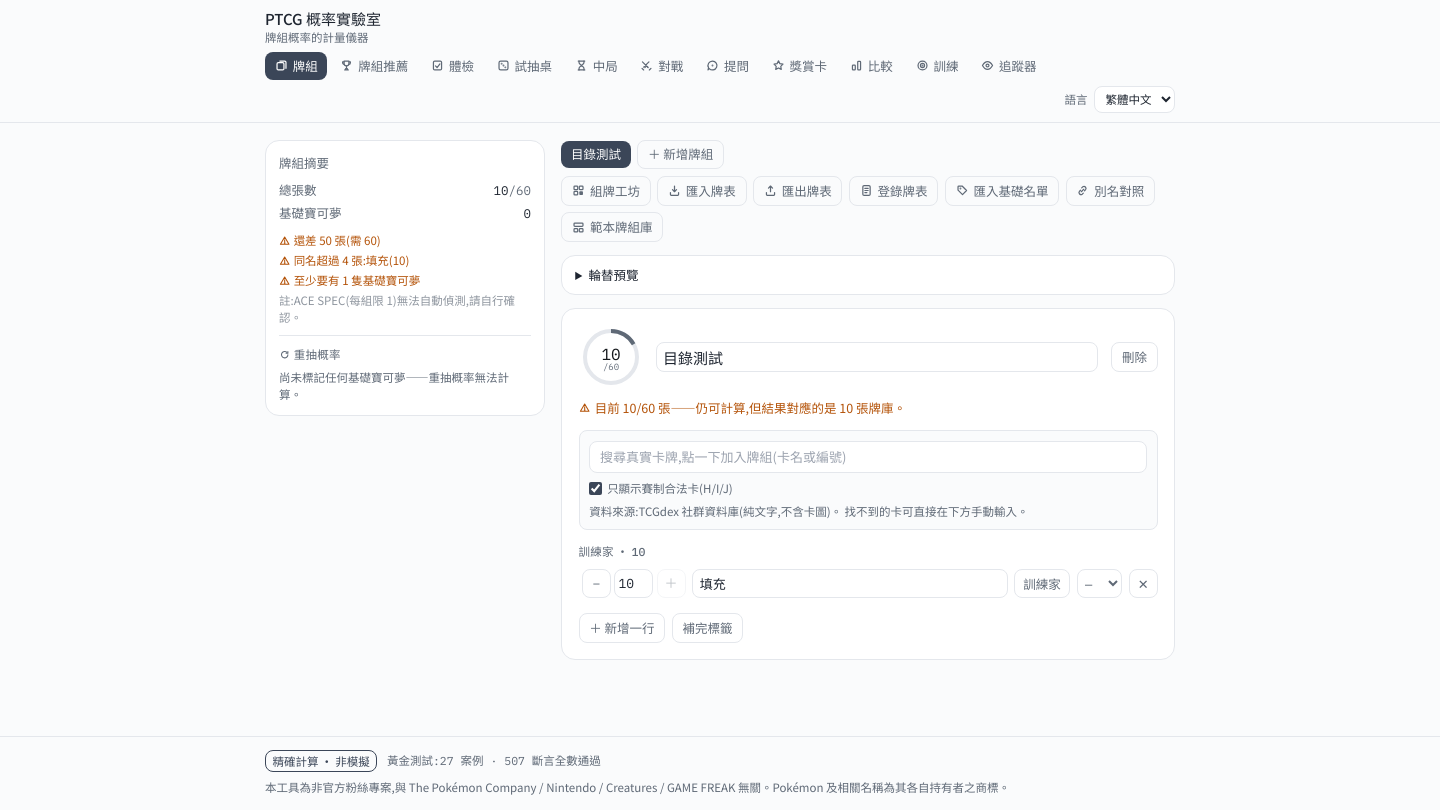
Scenario: CardPicker › shows the no-match fallback hint instead of dead ends
The width and height of the screenshot is (1440, 810).
Type "不存在的卡" into the search field named "卡牌目錄搜尋".
click(868, 457); type("不存在的卡")  # box [589,441,1147,473]
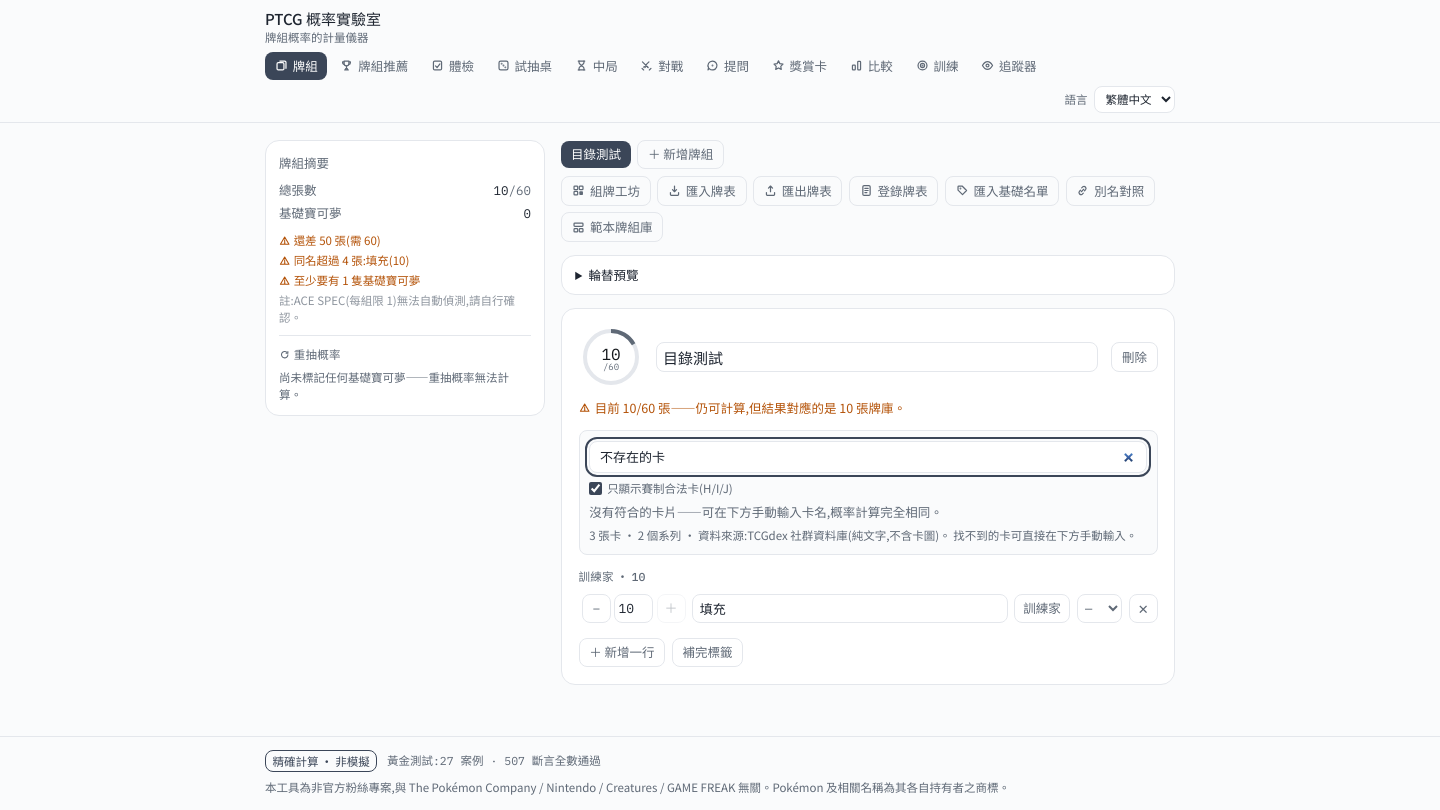
Now the text "沒有符合的卡片——可在下方手動輸入卡名,概率計算完全相同。" is shown, box [589,502,943,521]
